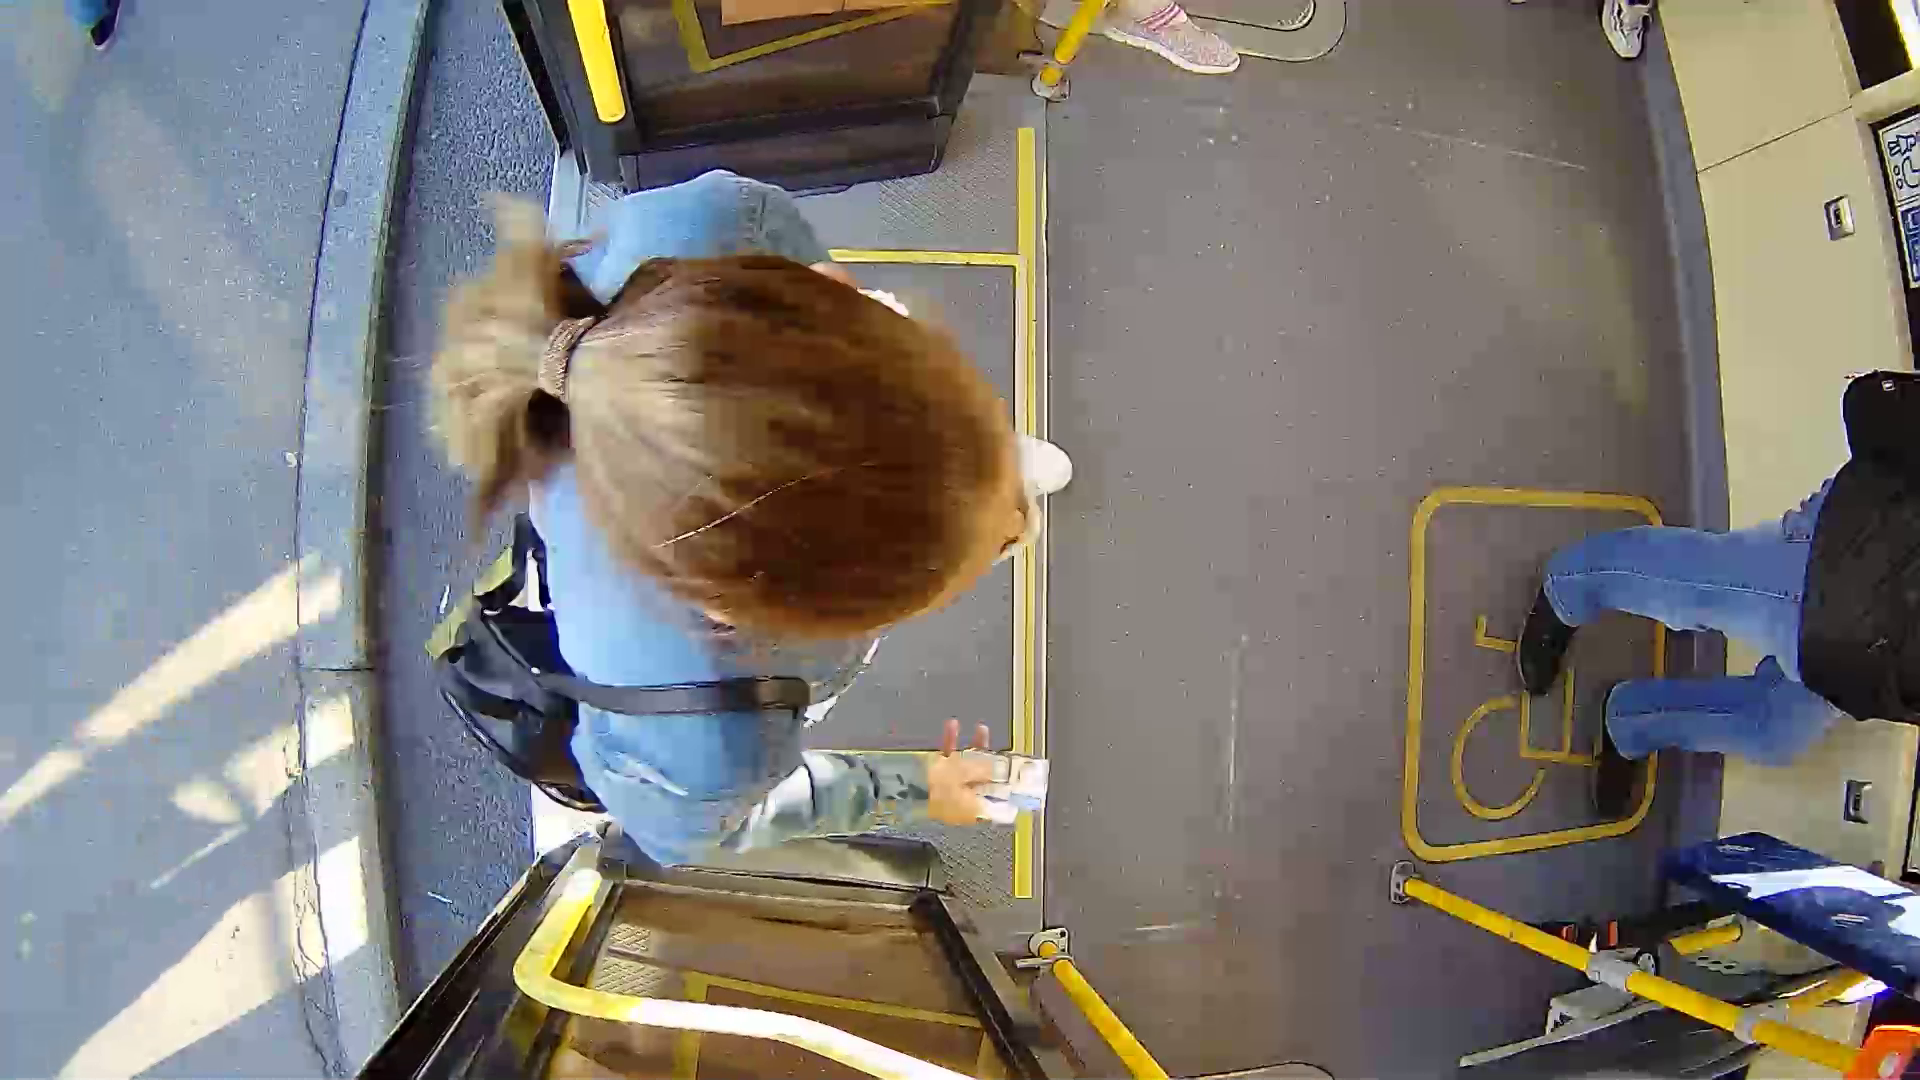person: (420, 197, 1078, 926)
